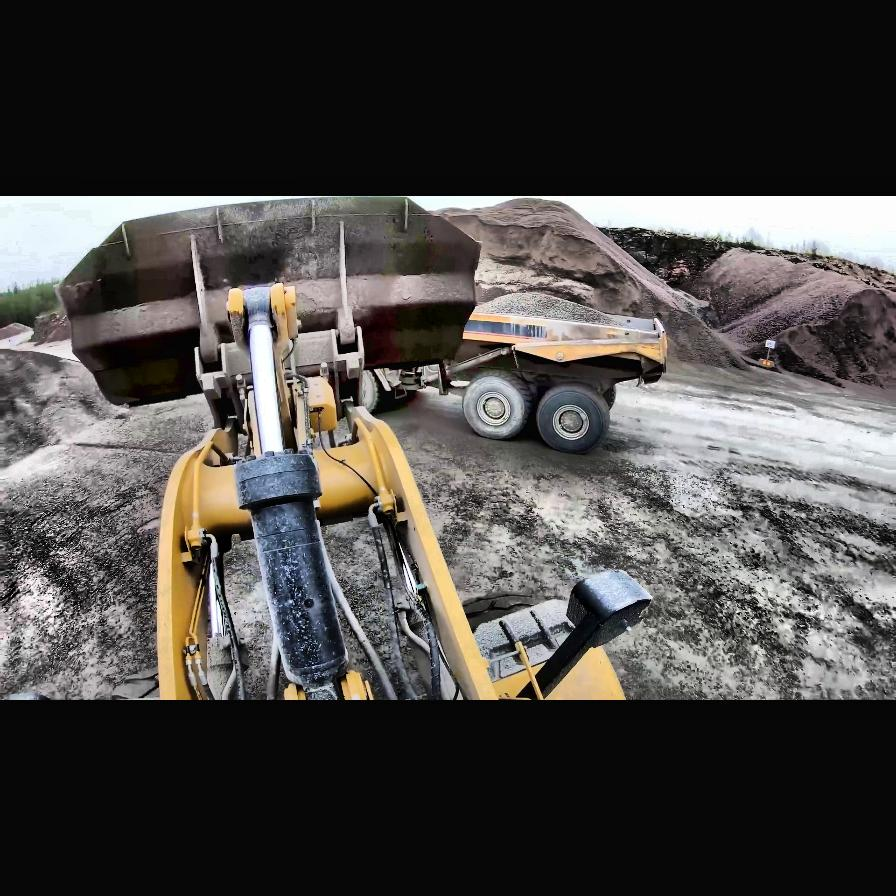anchor: (226, 284, 300, 349)
pile of gravel: (452, 197, 718, 384), (686, 247, 896, 399), (0, 346, 121, 478)
